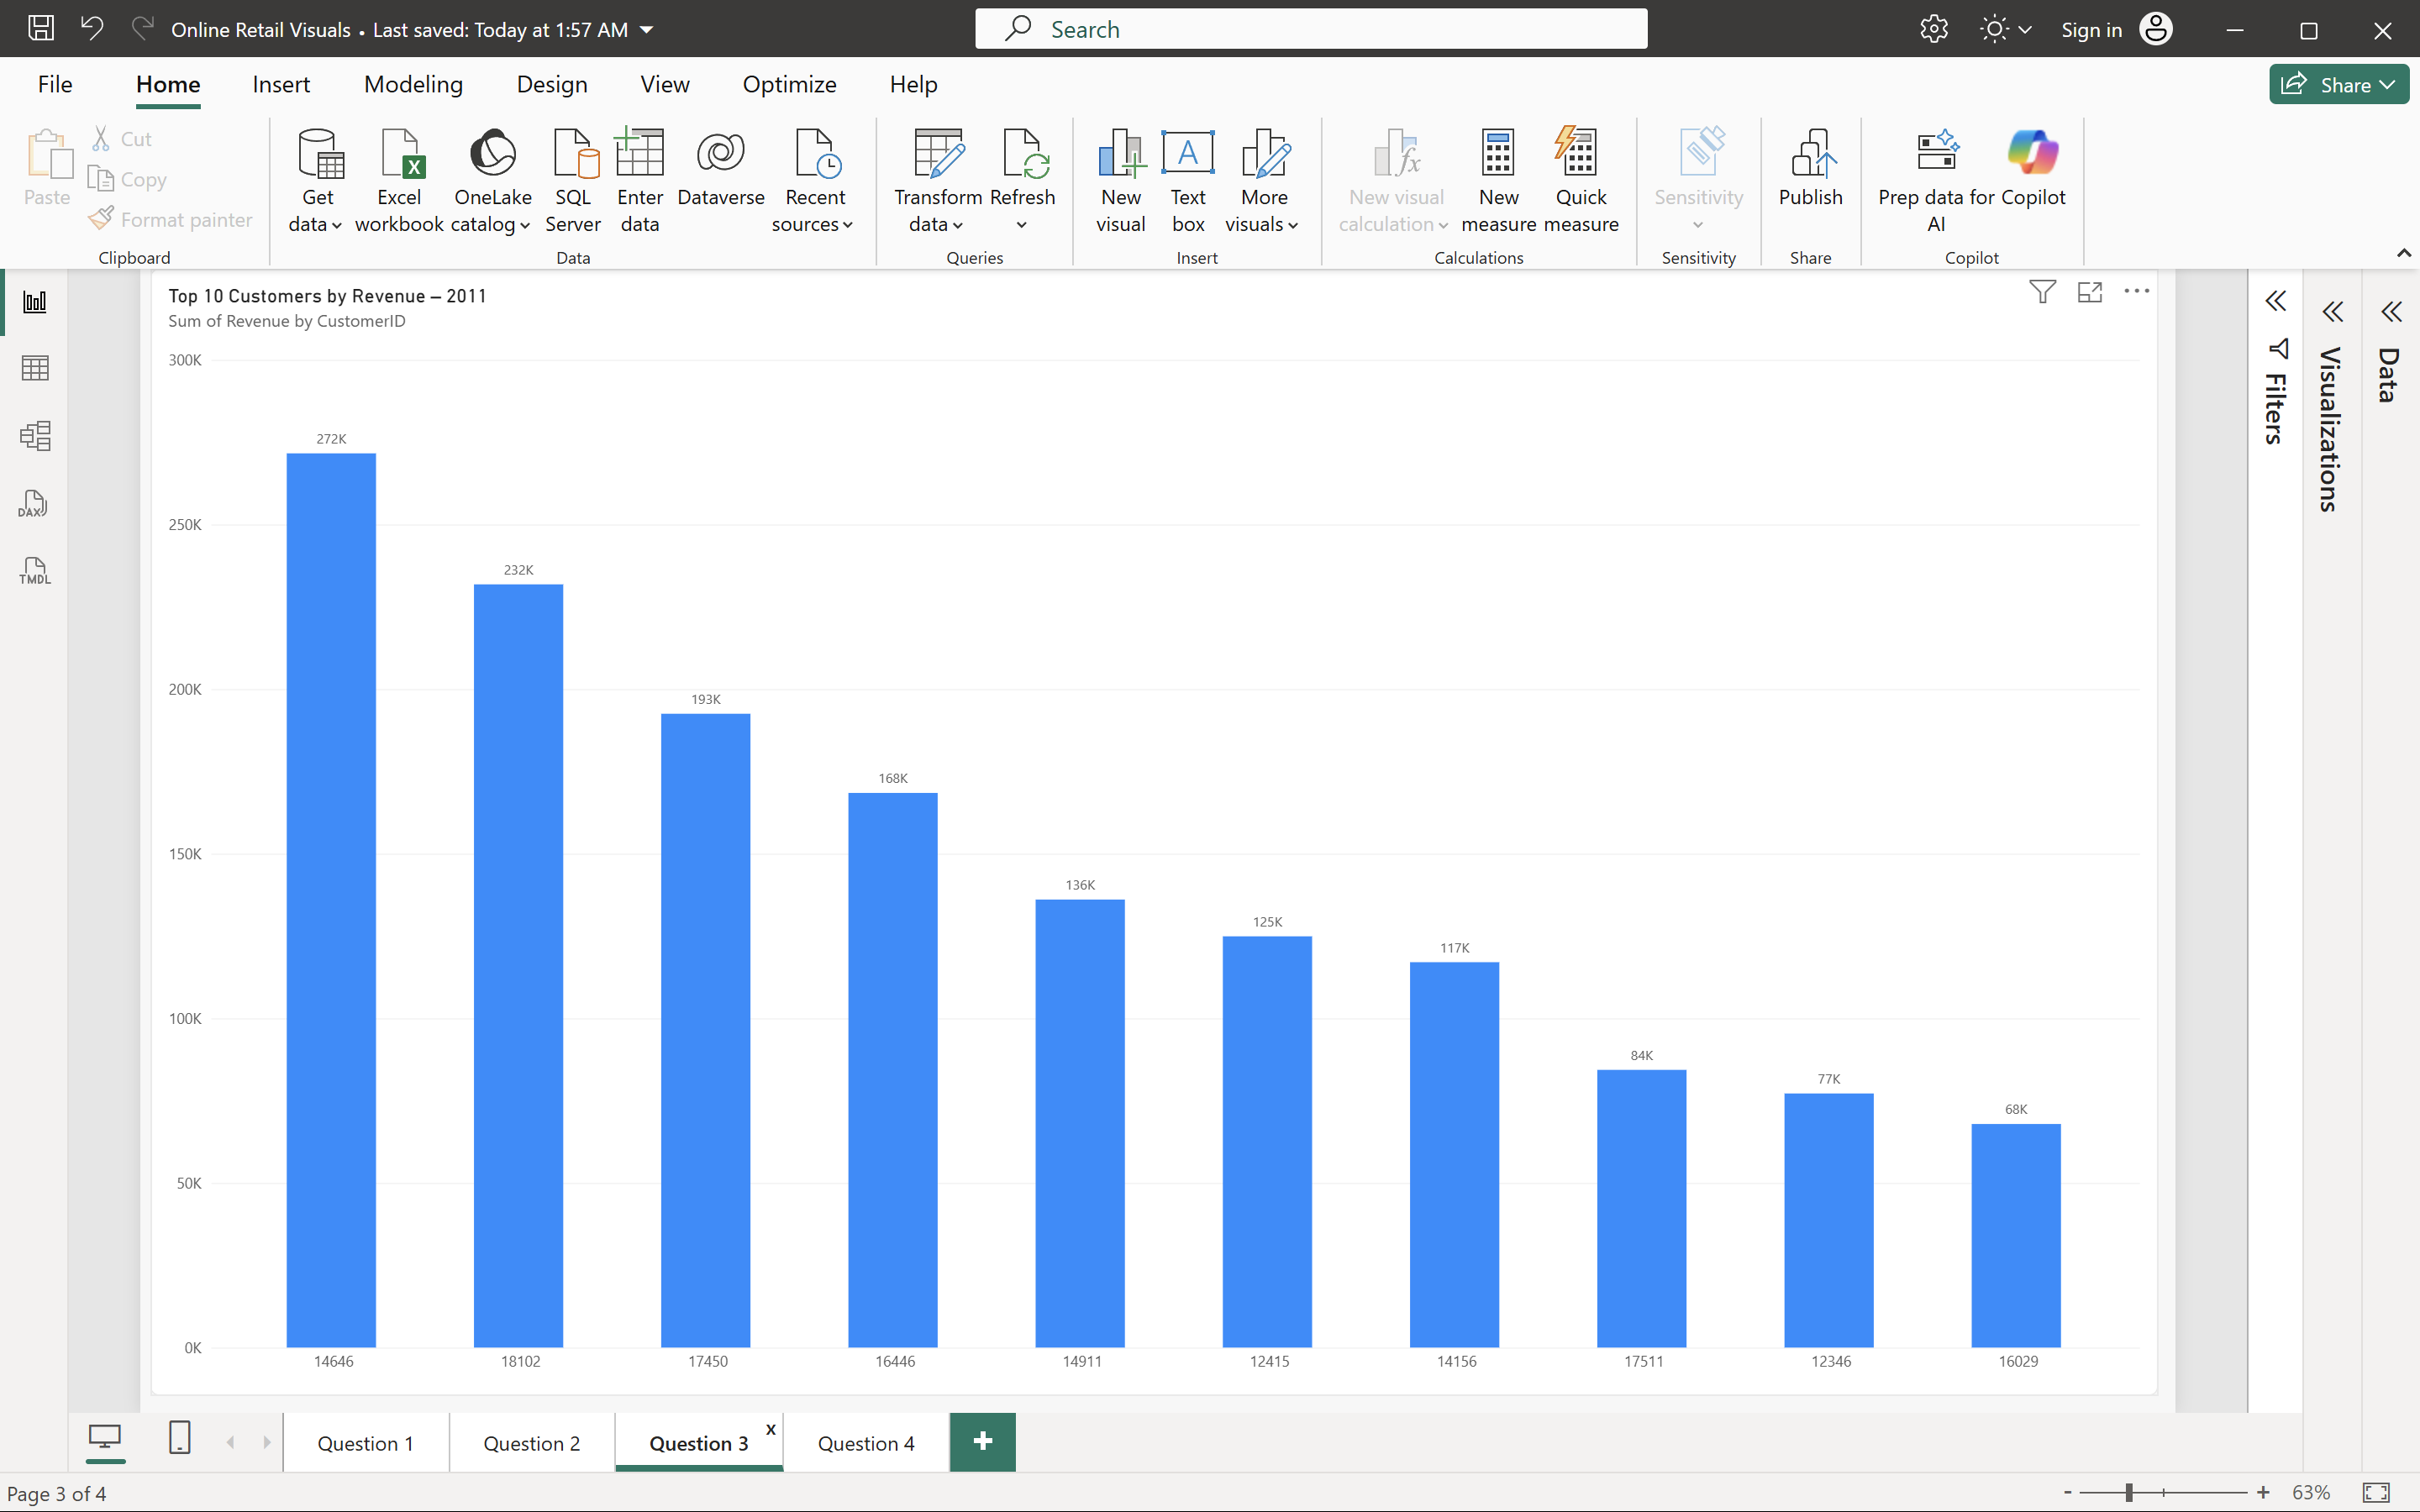

What the dashboard file says about the page in this screenshot:
{"tool":"powerbi","page":{"name":"Question 3","canvas":[1920,1080],"ordinal":2},"visuals":[{"type":"clusteredColumnChart","title":"Top 10 Customers by Revenue – 2011","fields":{"Category":["Online Retail.CustomerID"],"Y":["Sum(Online Retail.Revenue)"]},"box":[9.2,0,1894.7,1063.3],"z":0}]}

Visuals, with their boxes on the page's 1920x1080 design canvas (x1, y1, x2, y2). These are canvas units, not pixel positions in the 2420x1512 screenshot, which may show the page scaled, cropped or inside an application window:
"Top 10 Customers by Revenue – 2011" clusteredColumnChart: (left=9, top=0, right=1904, bottom=1063)
